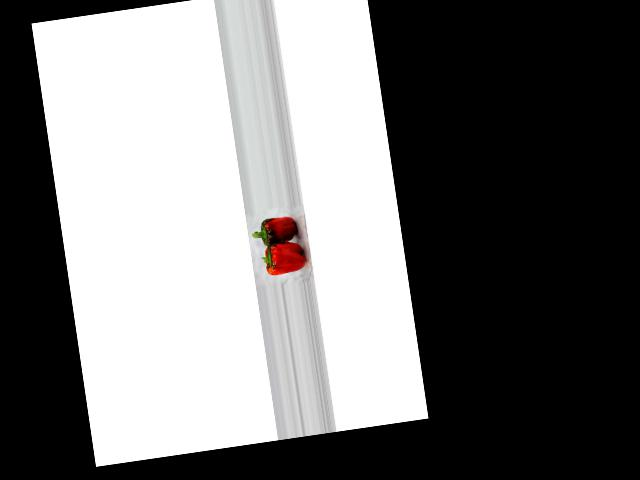bell_pepper: (257, 239, 308, 282)
